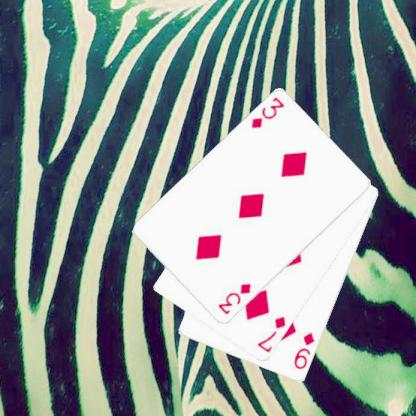3D: (214, 280, 252, 316), (248, 95, 286, 130)
7D: (254, 314, 287, 353)
9D: (291, 330, 316, 371)
